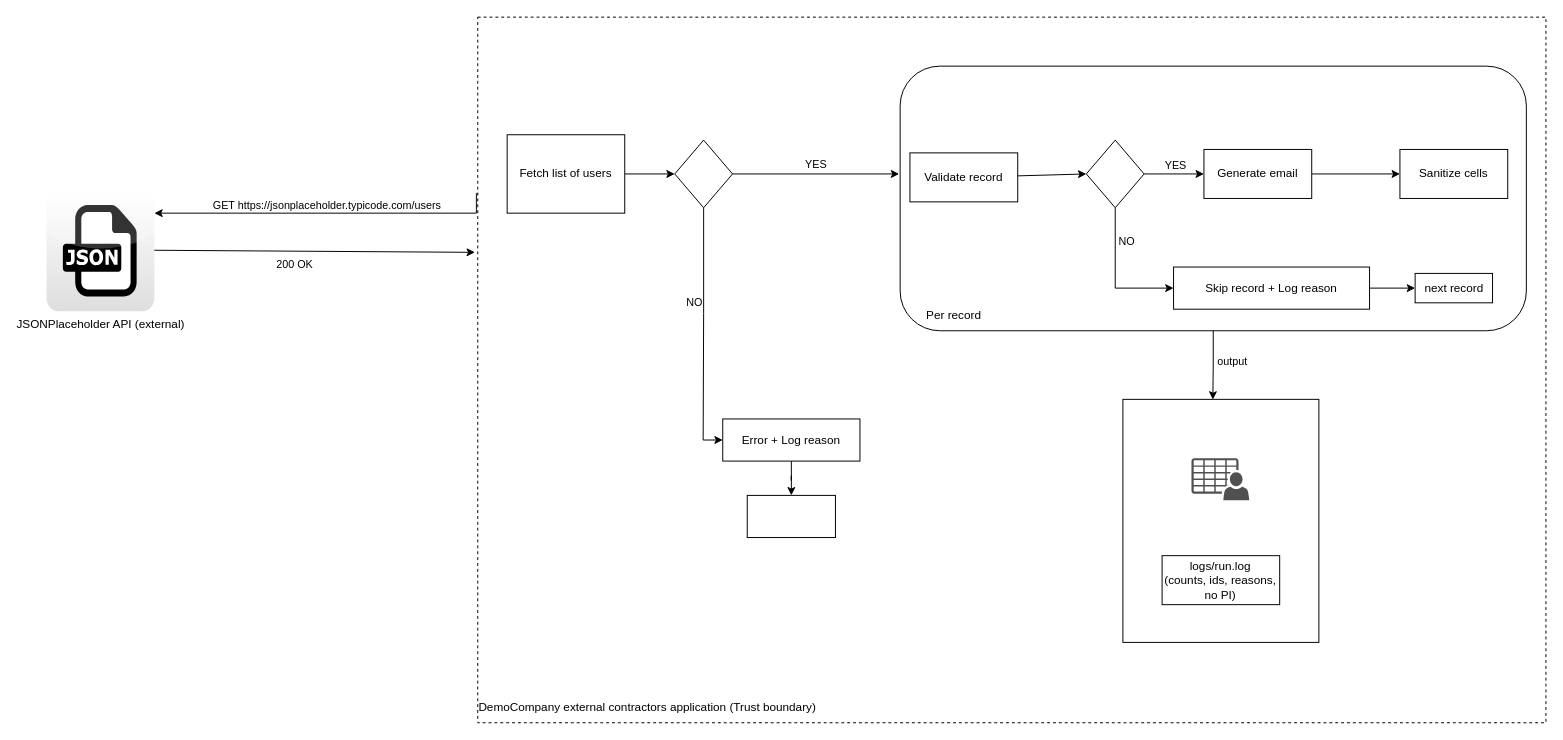
Some shapes in this 1563 by 740 pixel diagram are drawn without their labels. The shapes that lost their labels are listed below. From the top down, each one's centre as x and y in pixels, then its label:
the point at 703,173: Fetch OK?
the point at 1114,173: Valid?
the point at 1220,479: ExternalContractors.csv
the point at 790,516: no CSV
